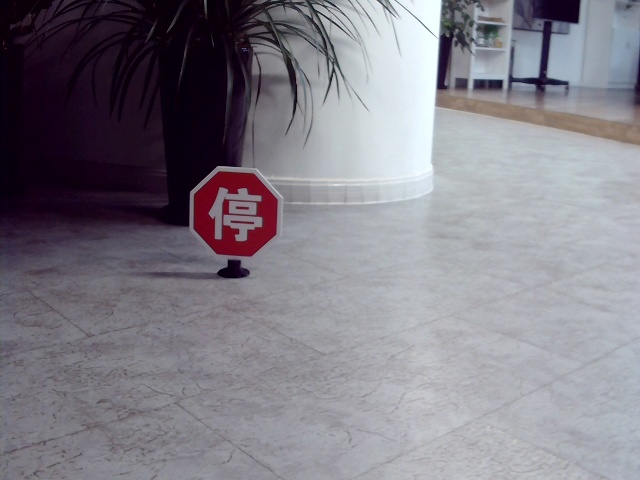stop: (209, 186, 263, 241)
